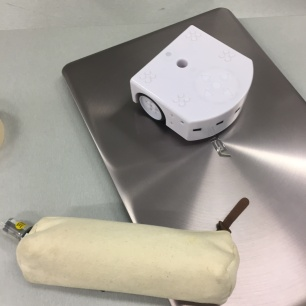thymio: (127, 22, 257, 151)
